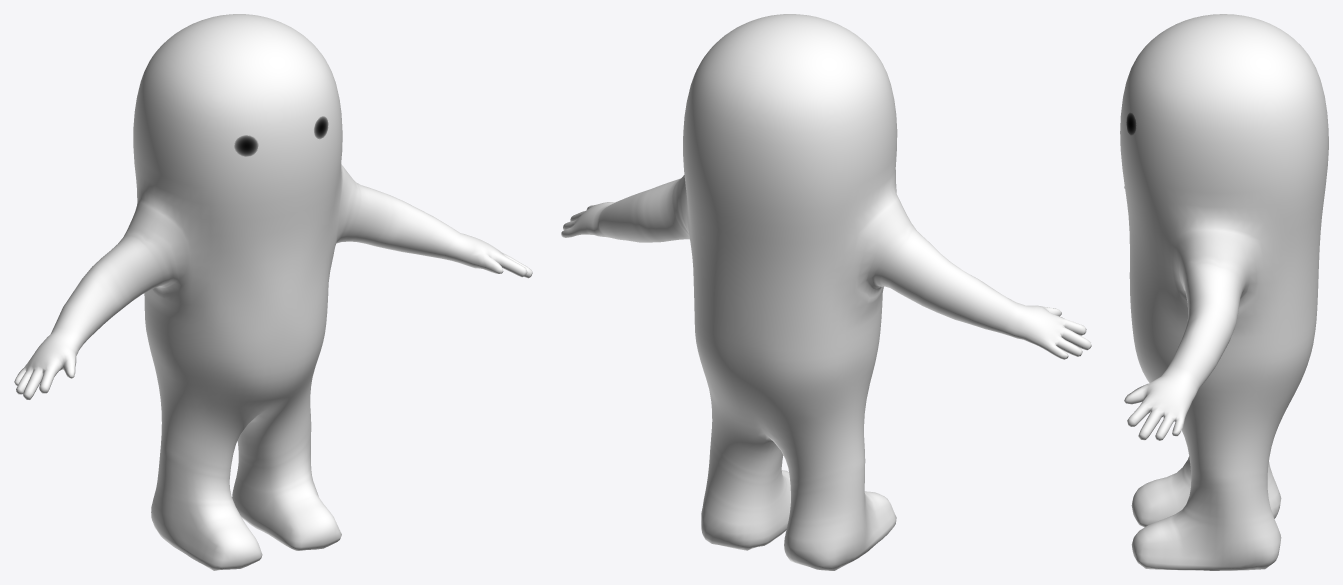
File: Character.fbx
3 views of the same model, side by side, from view 1: azimuth 30°, elevation 25°; view 2: azimuth 150°, elevation 25°; view 3: azimuth 270°, elevation 25° (orthographic). The views are drawn at different scales.
Visible parts, largest first — view 1: CharacterFinal; view 2: CharacterFinal; view 3: CharacterFinal.
Part boxes in pixels (box(x1,y1,x2,y2)): CharacterFinal: box(14, 14, 532, 570); CharacterFinal: box(561, 14, 1091, 570); CharacterFinal: box(1120, 14, 1328, 570).
Size of the model in its own units: 180 by 170 by 62.76.
